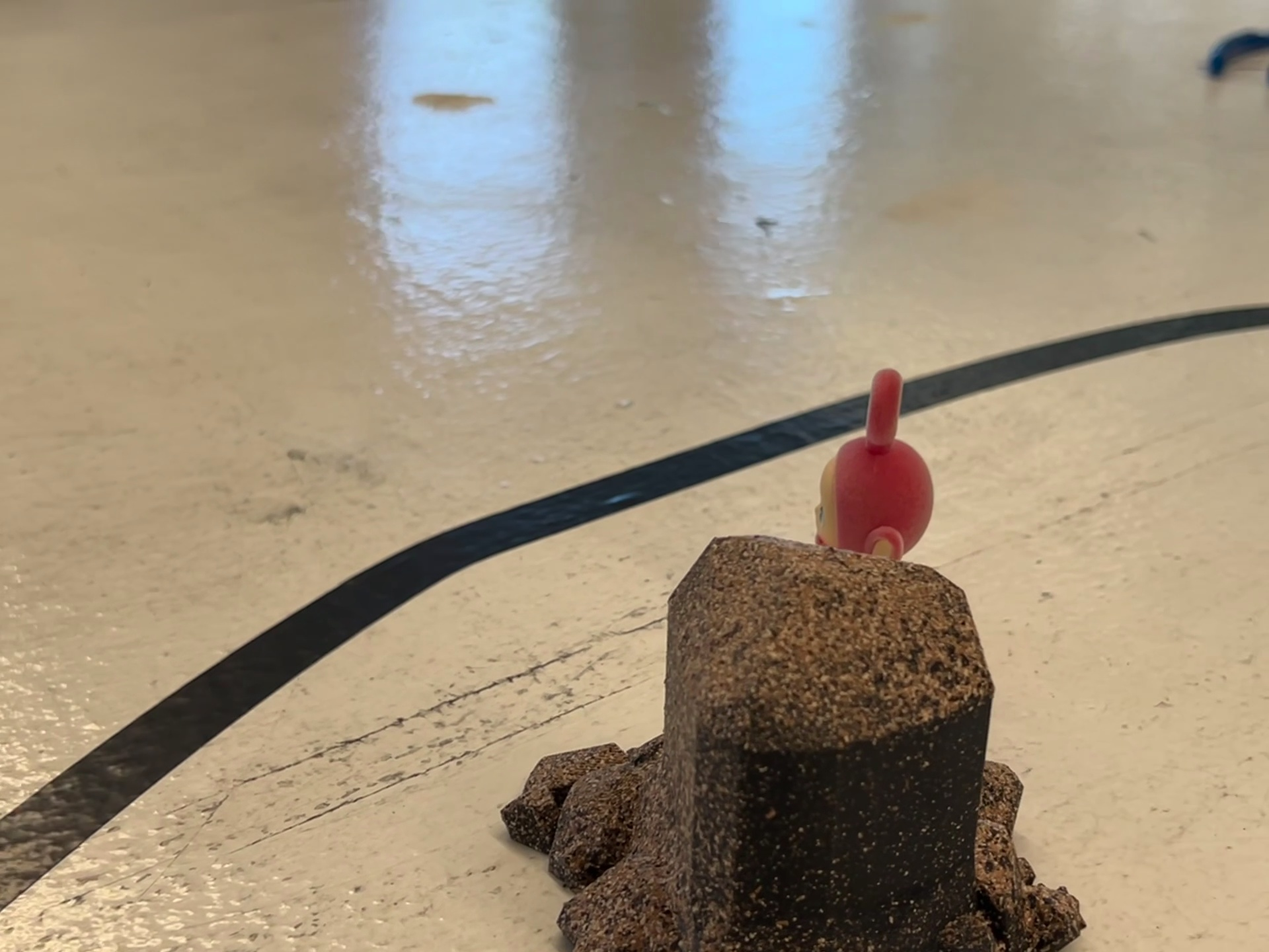teletubby: (815, 368, 933, 560)
